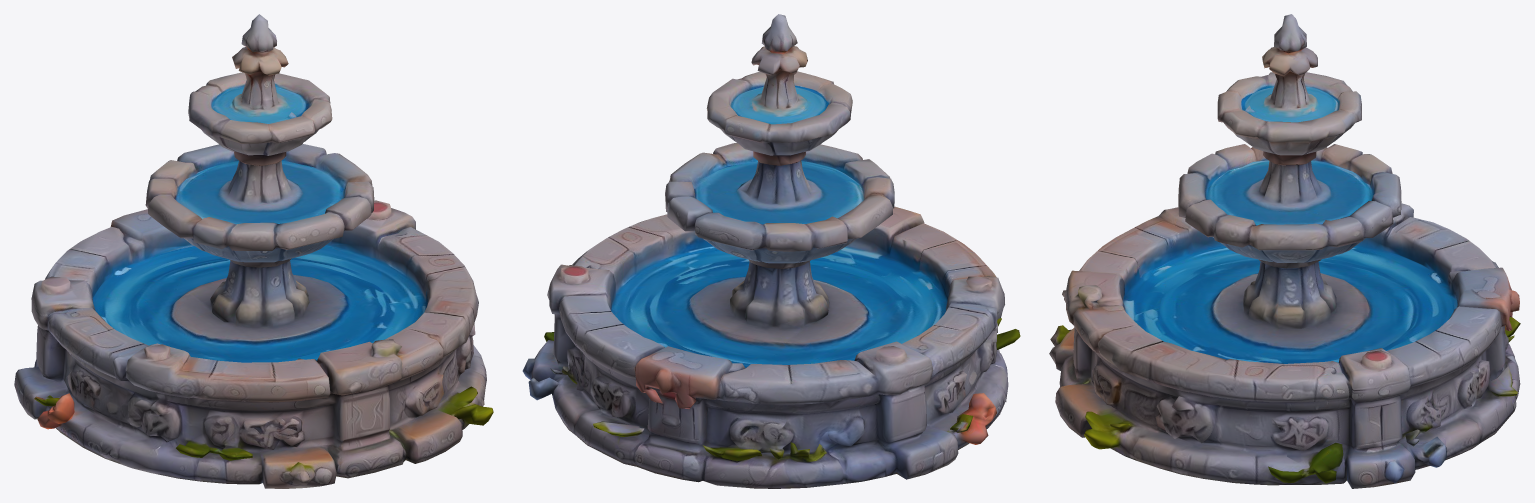
The model's file is cesme.glb.
3 renders of one model, left to right at view 1: azimuth 30°, elevation 25°; view 2: azimuth 150°, elevation 25°; view 3: azimuth 270°, elevation 25°, orthographic.
Visible parts, largest first — view 1: tripo_node_bcf9ac19-3a1f-46bc-a1a6-23332d1ad405; view 2: tripo_node_bcf9ac19-3a1f-46bc-a1a6-23332d1ad405; view 3: tripo_node_bcf9ac19-3a1f-46bc-a1a6-23332d1ad405.
Boxes of the visible parts, <box> form: tripo_node_bcf9ac19-3a1f-46bc-a1a6-23332d1ad405: <box>14,14,493,488</box>; tripo_node_bcf9ac19-3a1f-46bc-a1a6-23332d1ad405: <box>522,14,1020,488</box>; tripo_node_bcf9ac19-3a1f-46bc-a1a6-23332d1ad405: <box>1049,14,1520,488</box>.
Bounding box in the file's own units: 1 × 0.8406 × 0.9532.
1 material, 1 textured.
